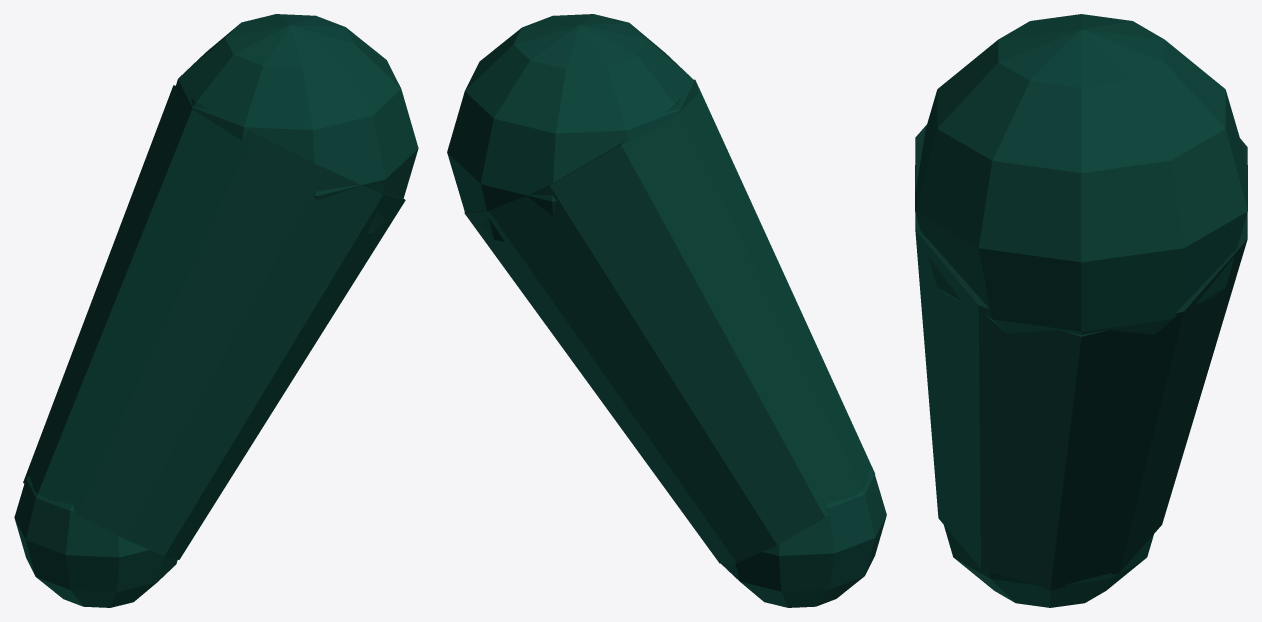
Rendered from SM_brachiosaurus_fore_r_Upper.fbx.
3 renders of one model, left to right at view 1: azimuth 30°, elevation 25°; view 2: azimuth 150°, elevation 25°; view 3: azimuth 270°, elevation 25°, orthographic. The views are drawn at different scales.
Parts seen in each view (by area): view 1: SM_brachiosaurus_fore_r_Upper export; view 2: SM_brachiosaurus_fore_r_Upper export; view 3: SM_brachiosaurus_fore_r_Upper export.
Boxes of the visible parts, bbox=[...] form: SM_brachiosaurus_fore_r_Upper export: bbox=[14, 14, 418, 607]; SM_brachiosaurus_fore_r_Upper export: bbox=[447, 14, 886, 607]; SM_brachiosaurus_fore_r_Upper export: bbox=[915, 14, 1247, 607].
Size of the model in its own units: 180 by 98.91 by 229.
